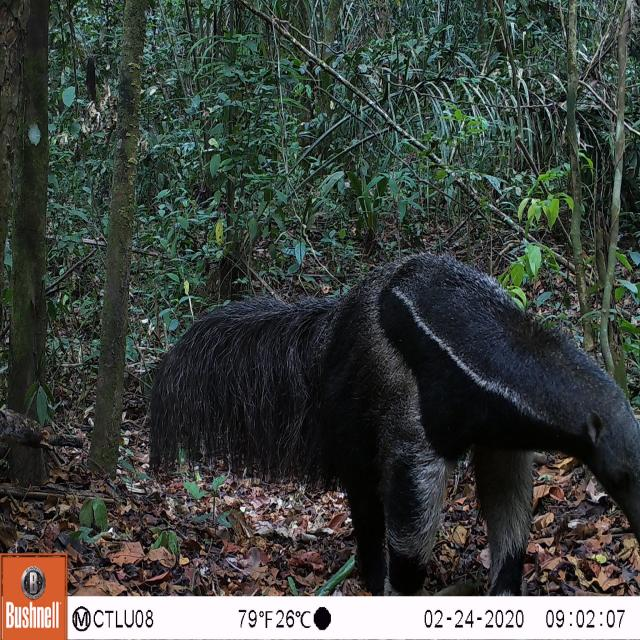Giant Anteater: (142, 240, 640, 590)
